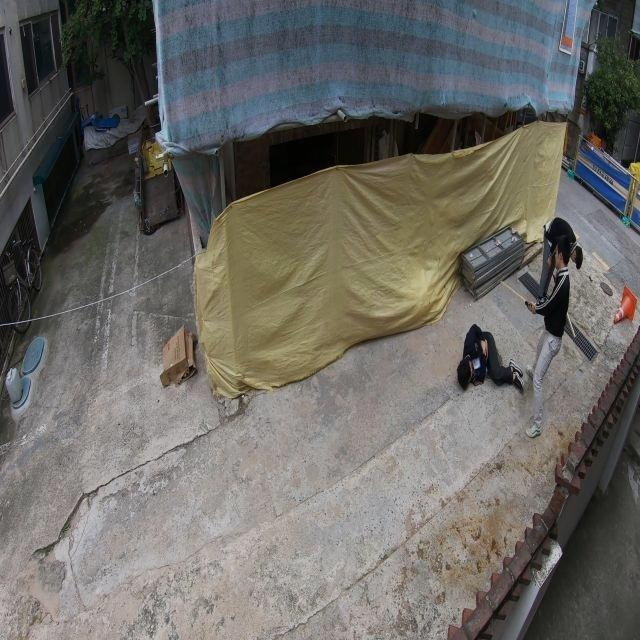fight: (456, 213, 581, 441)
